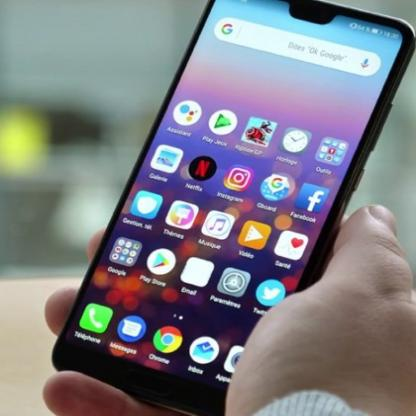SMARTPHONE: (51, 6, 411, 413)
